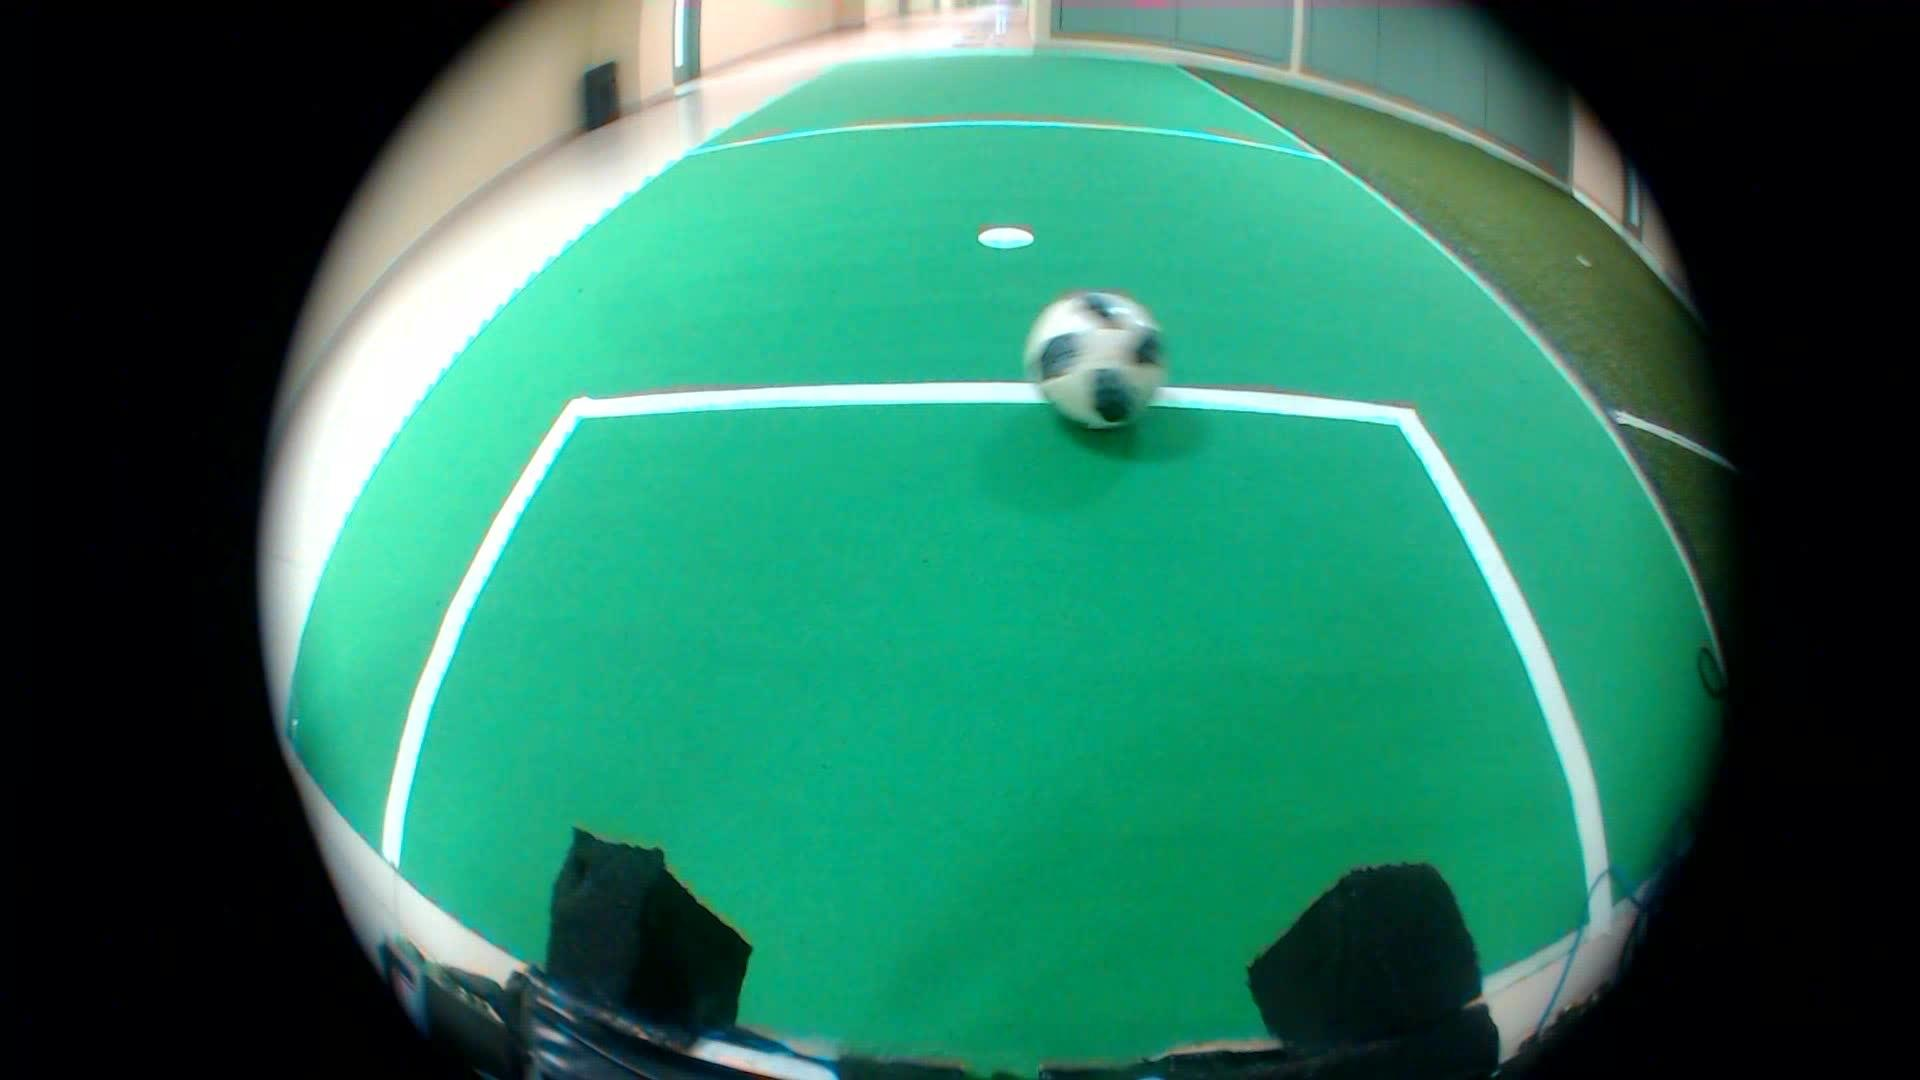ball: (1006, 269, 1187, 448)
